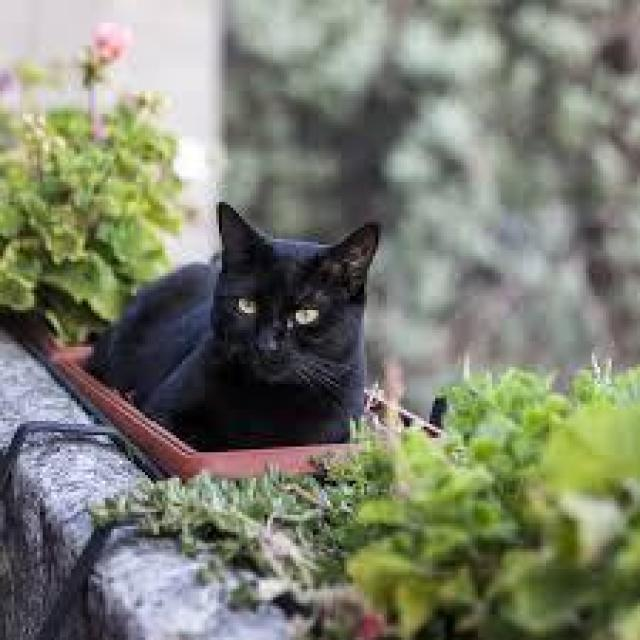Cat: (204, 190, 393, 398)
